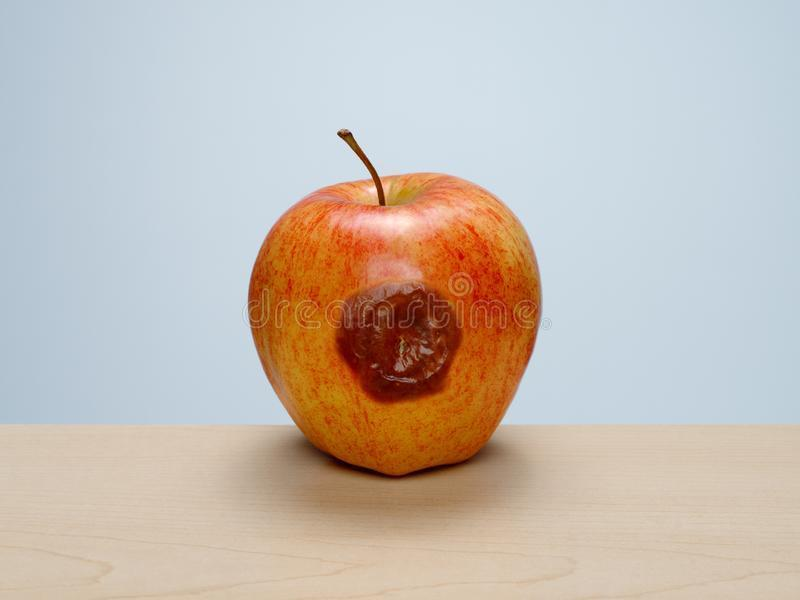apple: (245, 130, 542, 477)
